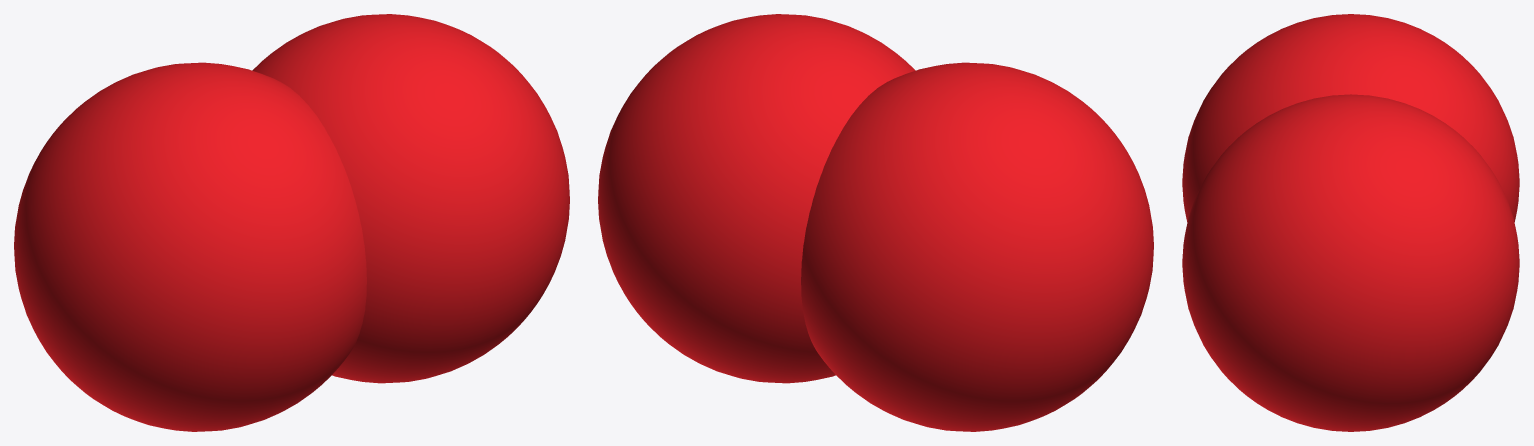
Rendered from oxygen.glb.
3 renders of one model, left to right at view 1: azimuth 30°, elevation 25°; view 2: azimuth 150°, elevation 25°; view 3: azimuth 270°, elevation 25°, orthographic. The views are drawn at different scales.
Visible parts, largest first — view 1: mesh_id27, mesh_id33; view 2: mesh_id27, mesh_id33; view 3: mesh_id33, mesh_id27.
Boxes of the visible parts, box(x1,y1,x2,y2) form: mesh_id27: box(14, 62, 366, 431); mesh_id33: box(252, 14, 569, 383); mesh_id27: box(801, 62, 1153, 431); mesh_id33: box(598, 14, 915, 383); mesh_id33: box(1182, 94, 1519, 431); mesh_id27: box(1182, 14, 1519, 221).
Size of the model in its own units: 0.4141 by 0.264 by 0.2616.
Materials: 2 (2 with a texture image).
